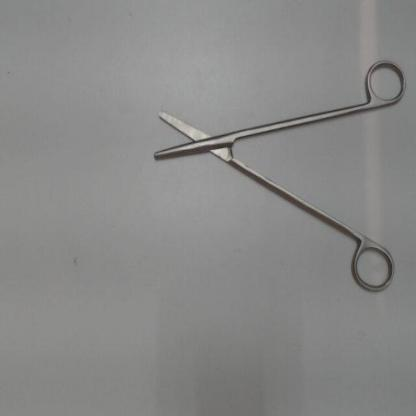9 Metzenbaum Scissors: (150, 55, 408, 300)
